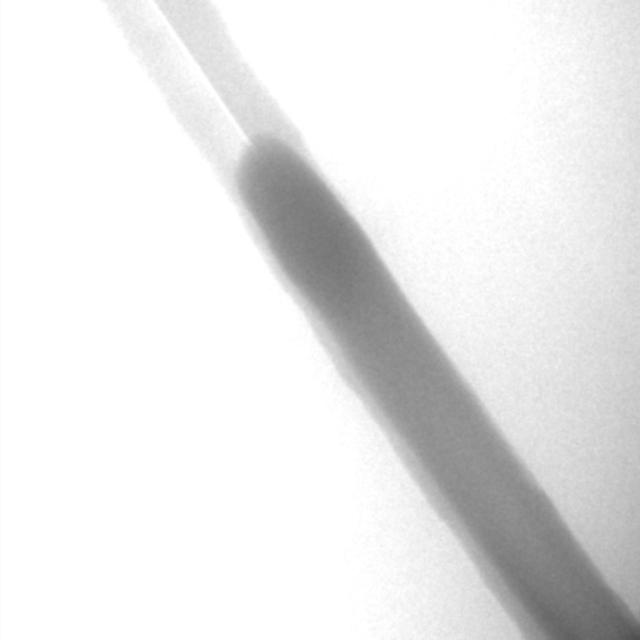broken arc: (152, 1, 250, 141)
